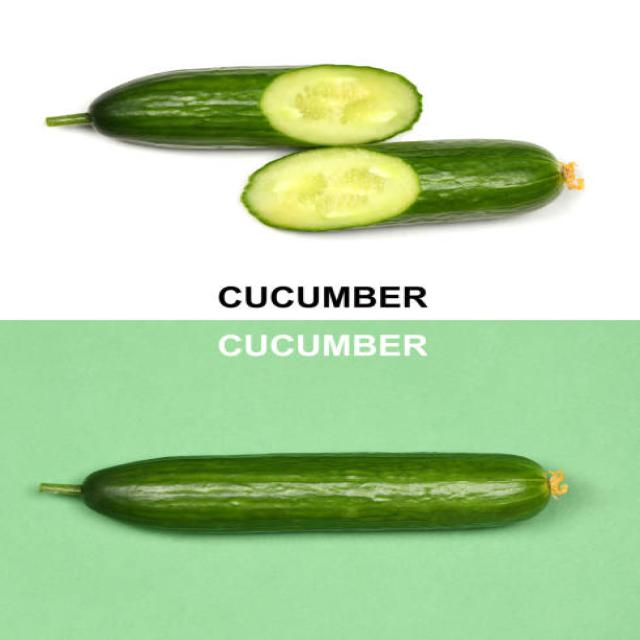cucumber: (79, 451, 552, 538), (240, 139, 562, 235), (89, 62, 422, 154)
